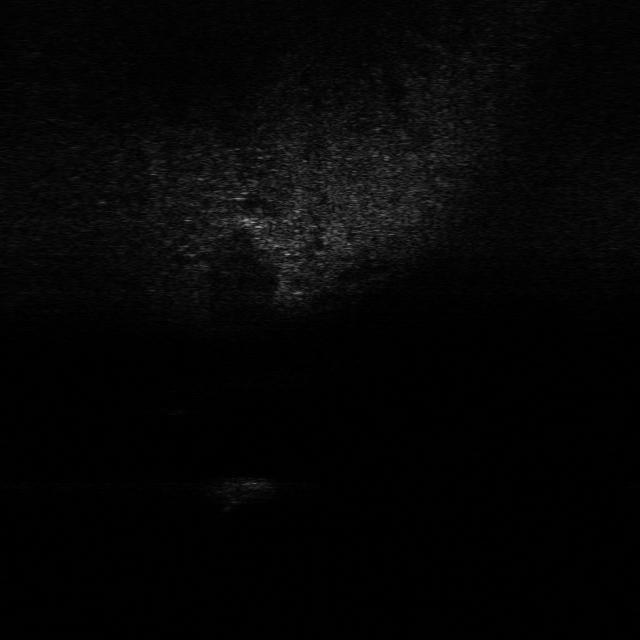circle cage: (207, 473, 298, 514)
